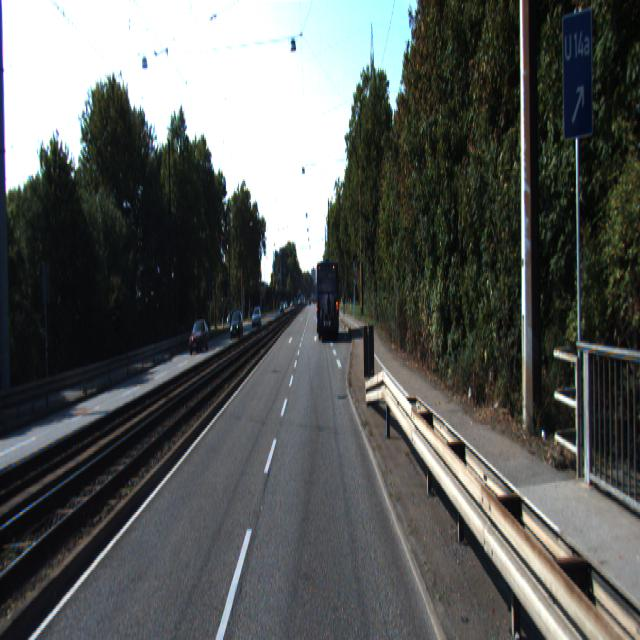Car: (316, 261, 339, 343), (188, 320, 210, 354)
